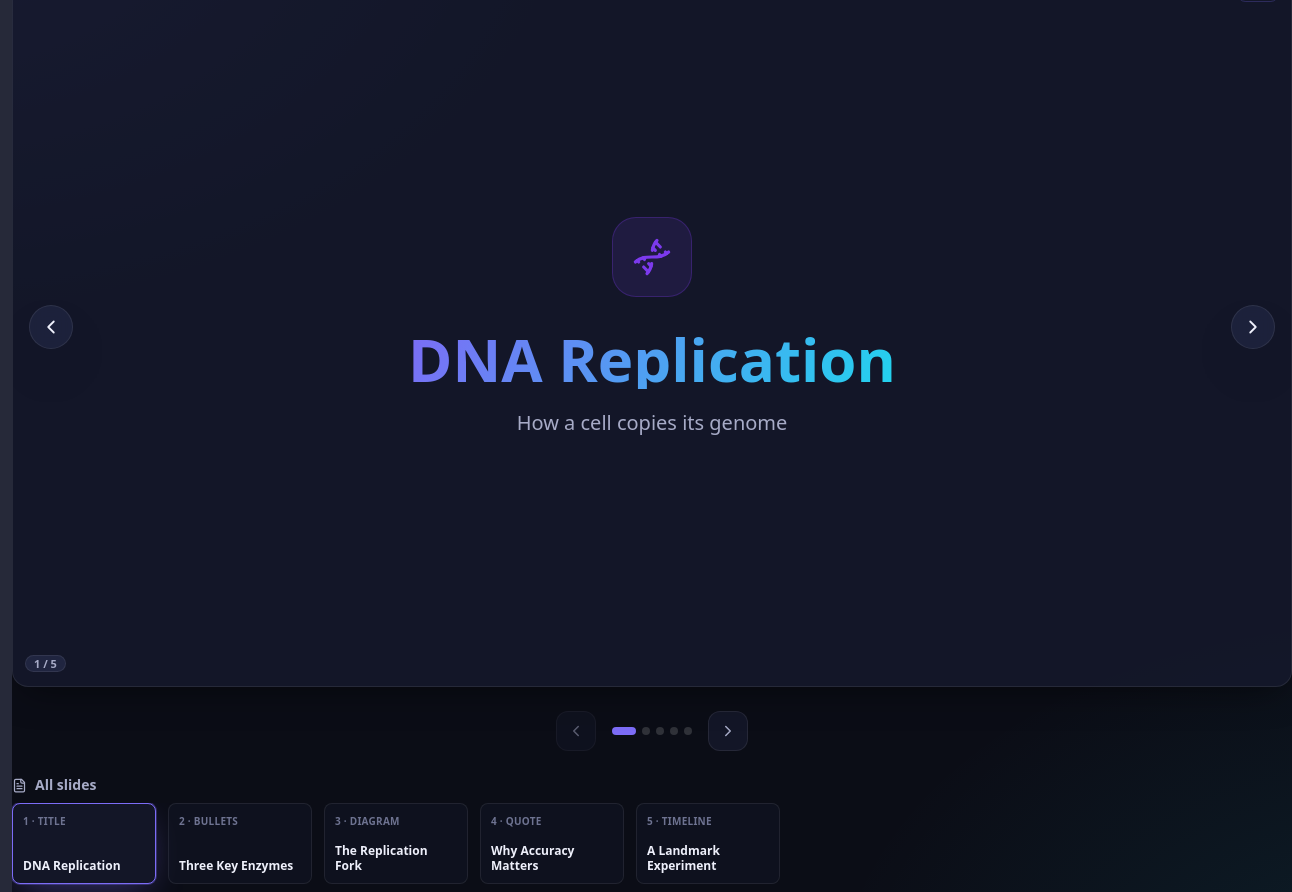
Test: SlidesPage › renders the mock deck and navigates between slides
The width and height of the screenshot is (1292, 892).
(page scrolled)
Check: the text "How a cell copies its genome" is shown, box [517, 409, 787, 437]
Check: the text "1 / 5" is shown, box [25, 655, 66, 672]
Jump to a specific slide via its thumbnail.
Click the button with aria-label "Slide 2:": (240, 844) [168, 803, 312, 884]
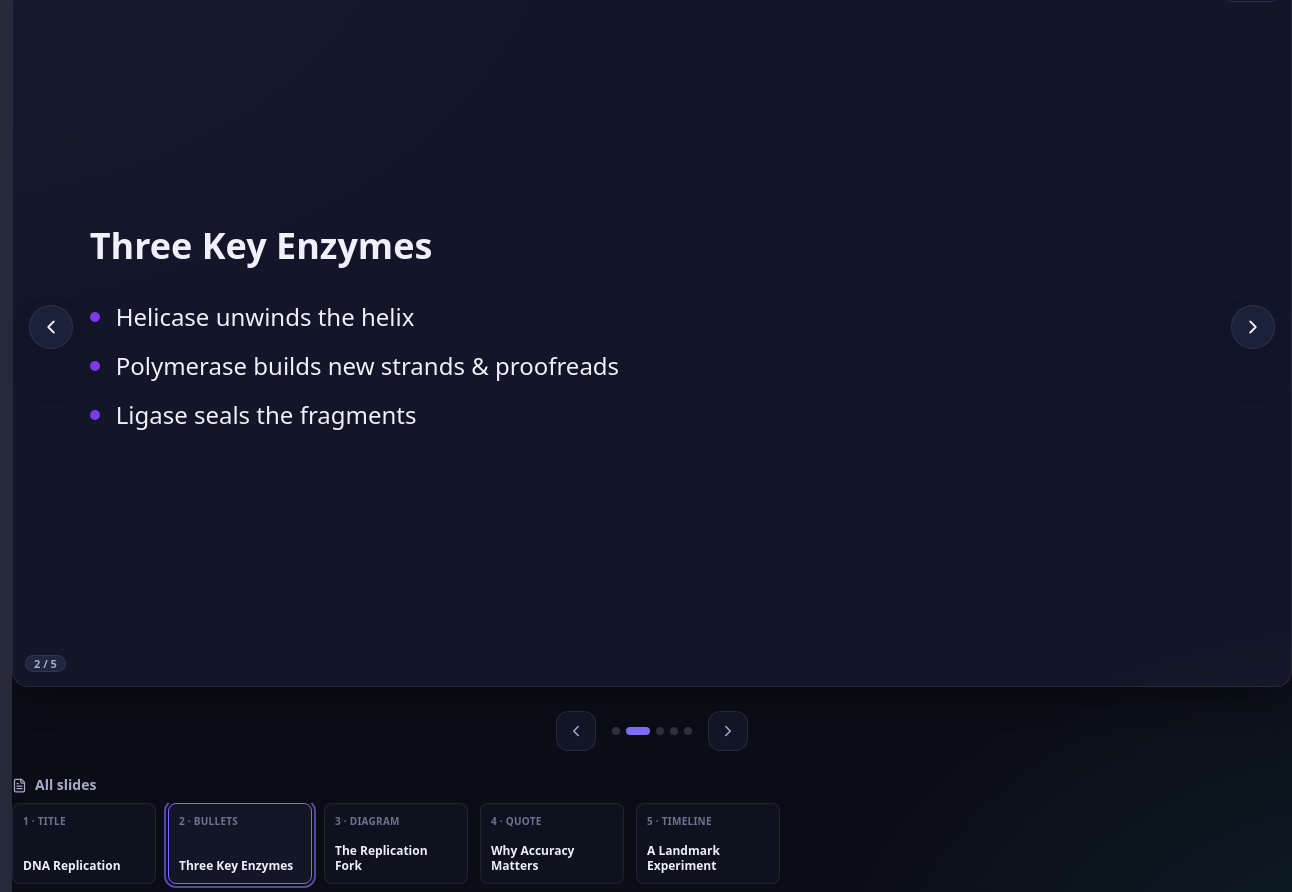
Check: the text "2 / 5" is shown, box [25, 655, 66, 672]
Check: the heading "Three Key Enzymes" is shown, box [90, 221, 432, 270]
Click the button with aria-label "Slide 4:": (552, 844) [480, 803, 624, 884]
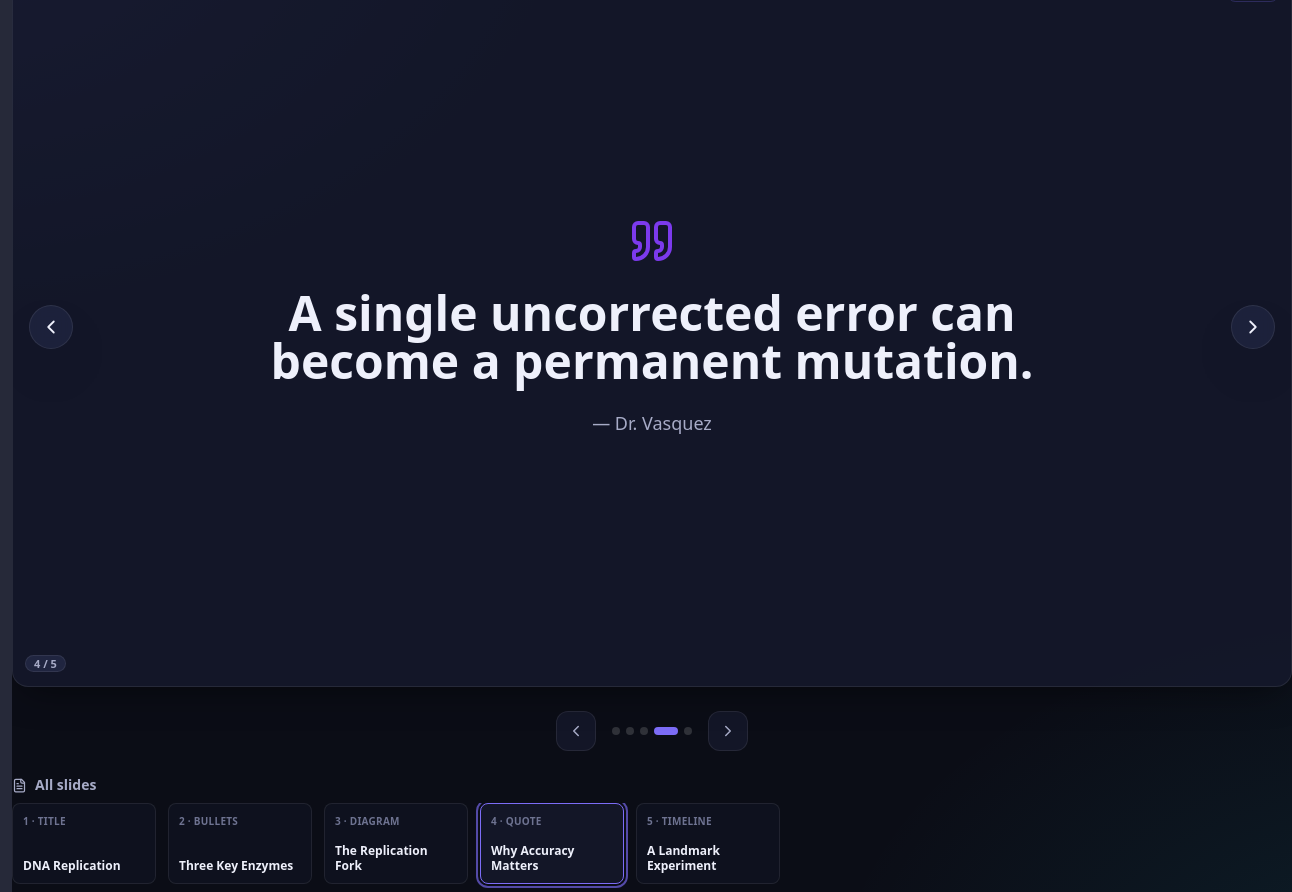
Check: the text "4 / 5" is shown, box [25, 655, 66, 672]
